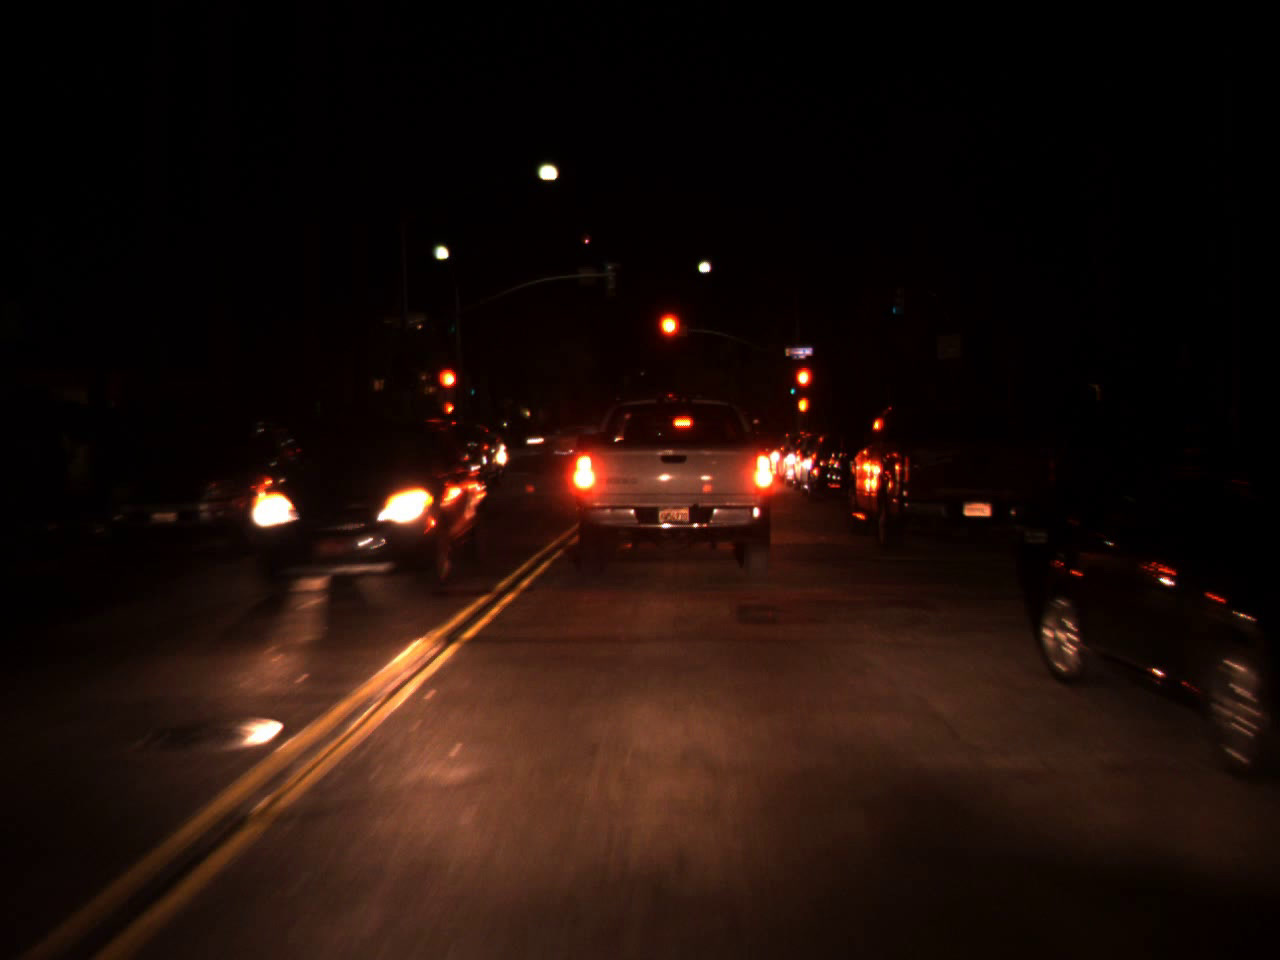stop: (655, 308, 683, 367), (792, 363, 814, 411), (436, 365, 460, 410)
